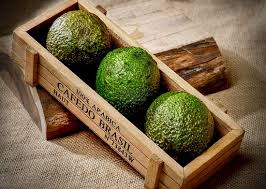aguacate: (96, 43, 159, 113)
